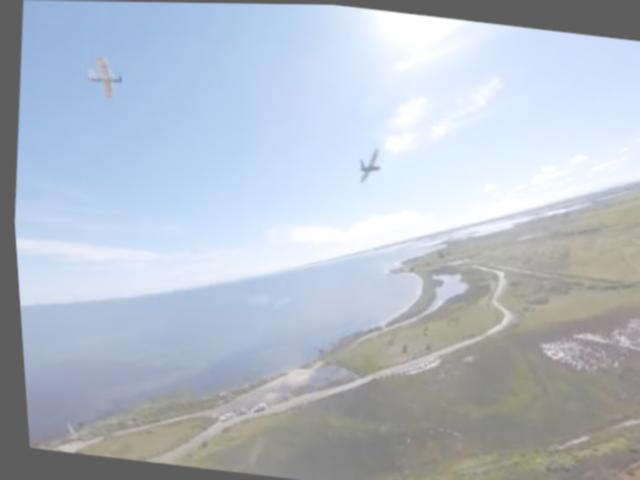uav: (82, 47, 125, 102), (351, 141, 384, 187)
